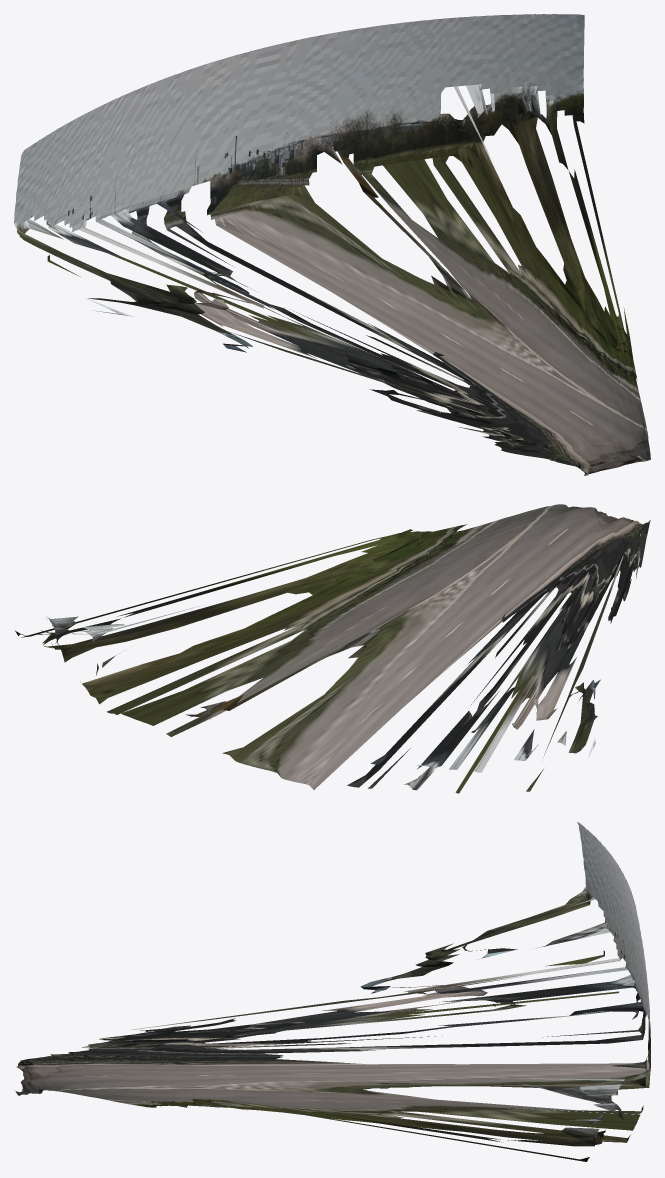
The picture shows the model from 3 angles, top to bottom: view 1: azimuth 30°, elevation 25°; view 2: azimuth 150°, elevation 25°; view 3: azimuth 270°, elevation 25°; orthographic projection. The views are drawn at different scales.
Visible parts, largest first — view 1: defaultobject; view 2: defaultobject; view 3: defaultobject.
Boxes of the visible parts, bbox=[...] form: defaultobject: bbox=[14, 14, 650, 475]; defaultobject: bbox=[15, 504, 650, 793]; defaultobject: bbox=[14, 822, 650, 1161].
Bounding box in the file's own units: 41.06 × 11.7 × 44.7.
1 material, 1 textured.
